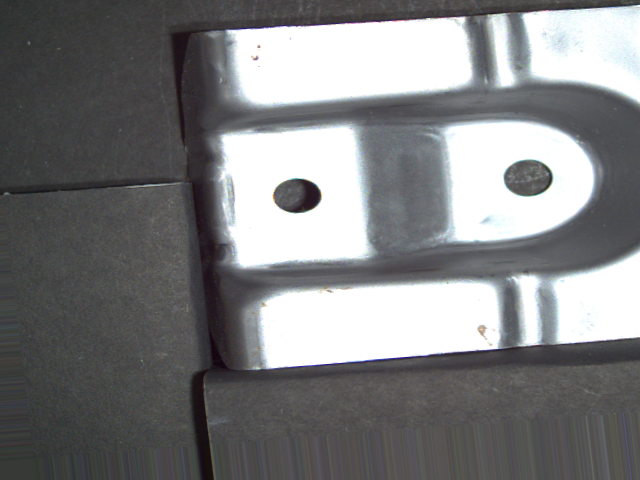defect: (500, 156, 556, 201)
